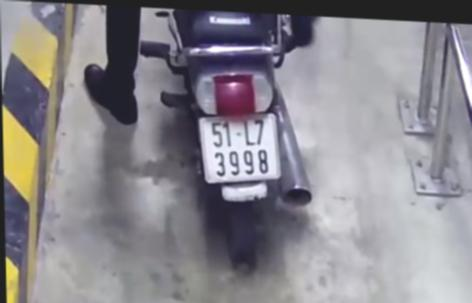License_Plate: (186, 106, 287, 194)
